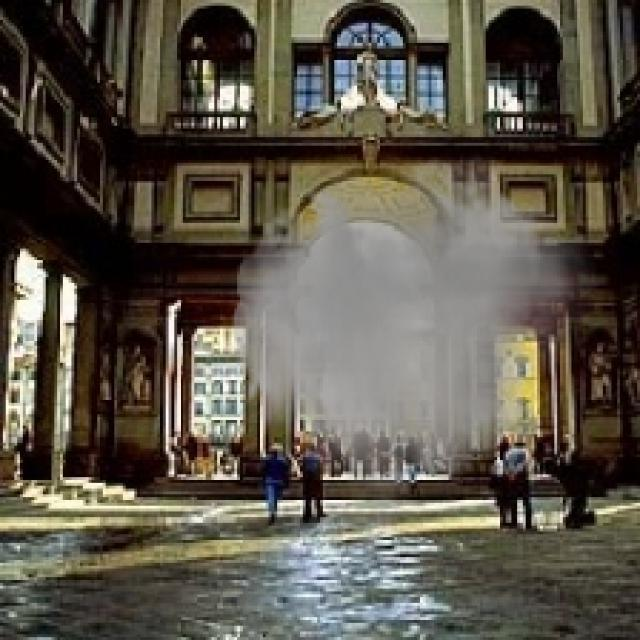Smoke: (223, 140, 600, 526)
